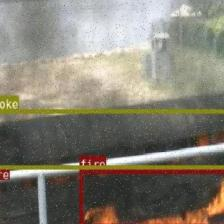smoke: (0, 109, 224, 168)
